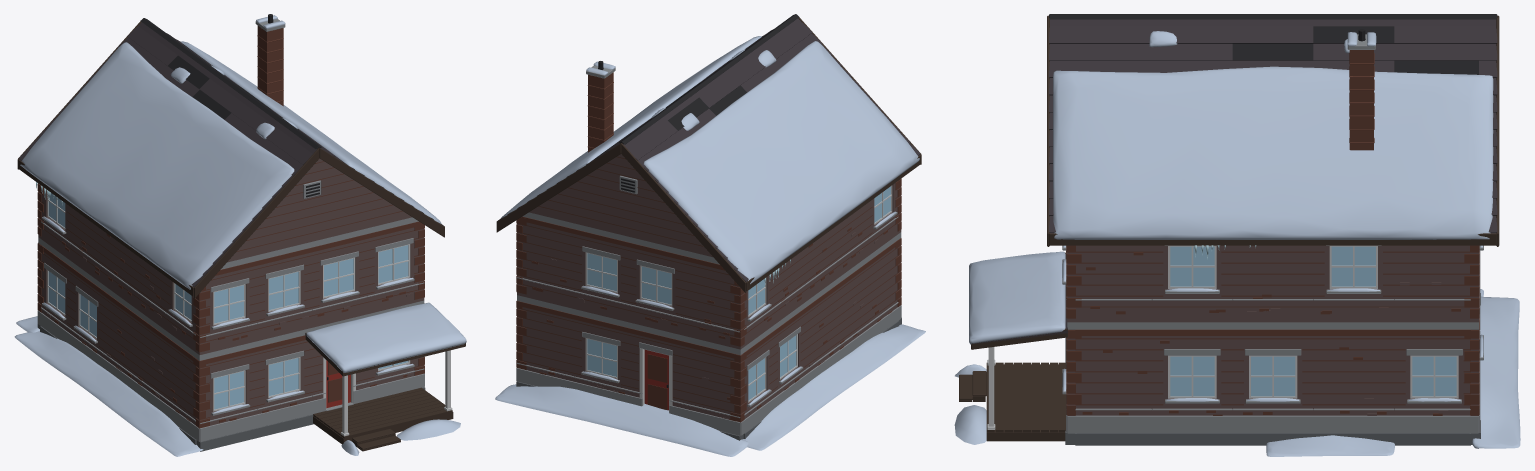
Rendered from house_two_story_B.glb.
3 renders of one model, left to right at view 1: azimuth 30°, elevation 25°; view 2: azimuth 150°, elevation 25°; view 3: azimuth 270°, elevation 25°, orthographic. The views are drawn at different scales.
Visible parts, largest first — view 1: Roof, Walls1_S, Floor0, Walls0_W, Walls0_S, Walls1_W, Walls0_S_Stub, Walls1_S_Stub, Floor1, Walls1_W_Stub, Window_12, Window_1 (+8 smaller); view 2: Roof, Walls1_N, Walls0_N, Floor0, Walls0_W, Walls1_W, Walls1_N_Stub, Floor1, Walls0_N_Stub, Walls1_W_Stub, Door_1, Window_3 (+6 smaller); view 3: Roof, Walls0_E, Walls1_E, Floor0, Walls1_E_Stub, Floor1, Walls0_E_Stub, Window_4, Window_6, Window_5, Window_16, Window_15 (+4 smaller).
Part boxes in pixels (x1=…): Roof: x1=17, y1=14, x2=466, y2=376; Walls1_S: x1=193, y1=221, x2=424, y2=354; Floor0: x1=14, y1=316, x2=460, y2=456; Walls0_W: x1=41, y1=245, x2=196, y2=438; Walls0_S: x1=193, y1=335, x2=424, y2=441; Walls1_W: x1=41, y1=189, x2=196, y2=352; Walls0_S_Stub: x1=195, y1=368, x2=424, y2=441; Walls1_S_Stub: x1=193, y1=282, x2=424, y2=354; Floor1: x1=38, y1=237, x2=424, y2=360; Walls1_W_Stub: x1=41, y1=221, x2=196, y2=351; Window_12: x1=378, y1=245, x2=408, y2=283; Window_1: x1=269, y1=358, x2=298, y2=395; Roof: x1=496, y1=14, x2=921, y2=292; Walls1_N: x1=516, y1=216, x2=746, y2=349; Walls0_N: x1=516, y1=301, x2=746, y2=435; Floor0: x1=495, y1=318, x2=925, y2=456; Walls0_W: x1=743, y1=240, x2=898, y2=432; Walls1_W: x1=743, y1=183, x2=897, y2=346; Walls1_N_Stub: x1=516, y1=277, x2=746, y2=349; Floor1: x1=517, y1=232, x2=901, y2=355; Walls0_N_Stub: x1=516, y1=363, x2=744, y2=435; Walls1_W_Stub: x1=744, y1=216, x2=898, y2=346; Door_1: x1=644, y1=349, x2=668, y2=410; Window_3: x1=587, y1=339, x2=616, y2=376; Roof: x1=969, y1=14, x2=1499, y2=349; Walls0_E: x1=1075, y1=329, x2=1470, y2=432; Walls1_E: x1=1075, y1=245, x2=1470, y2=322; Floor0: x1=954, y1=289, x2=1520, y2=456; Walls1_E_Stub: x1=1075, y1=299, x2=1470, y2=322; Floor1: x1=1067, y1=322, x2=1478, y2=329; Walls0_E_Stub: x1=1075, y1=408, x2=1470, y2=415; Window_4: x1=1170, y1=356, x2=1214, y2=396; Window_6: x1=1412, y1=356, x2=1456, y2=396; Window_5: x1=1251, y1=356, x2=1295, y2=396; Window_16: x1=1331, y1=246, x2=1375, y2=286; Window_15: x1=1170, y1=246, x2=1214, y2=286.
Size of what is drawn, in the model's own units: 9.9 by 10.68 by 14.02.
